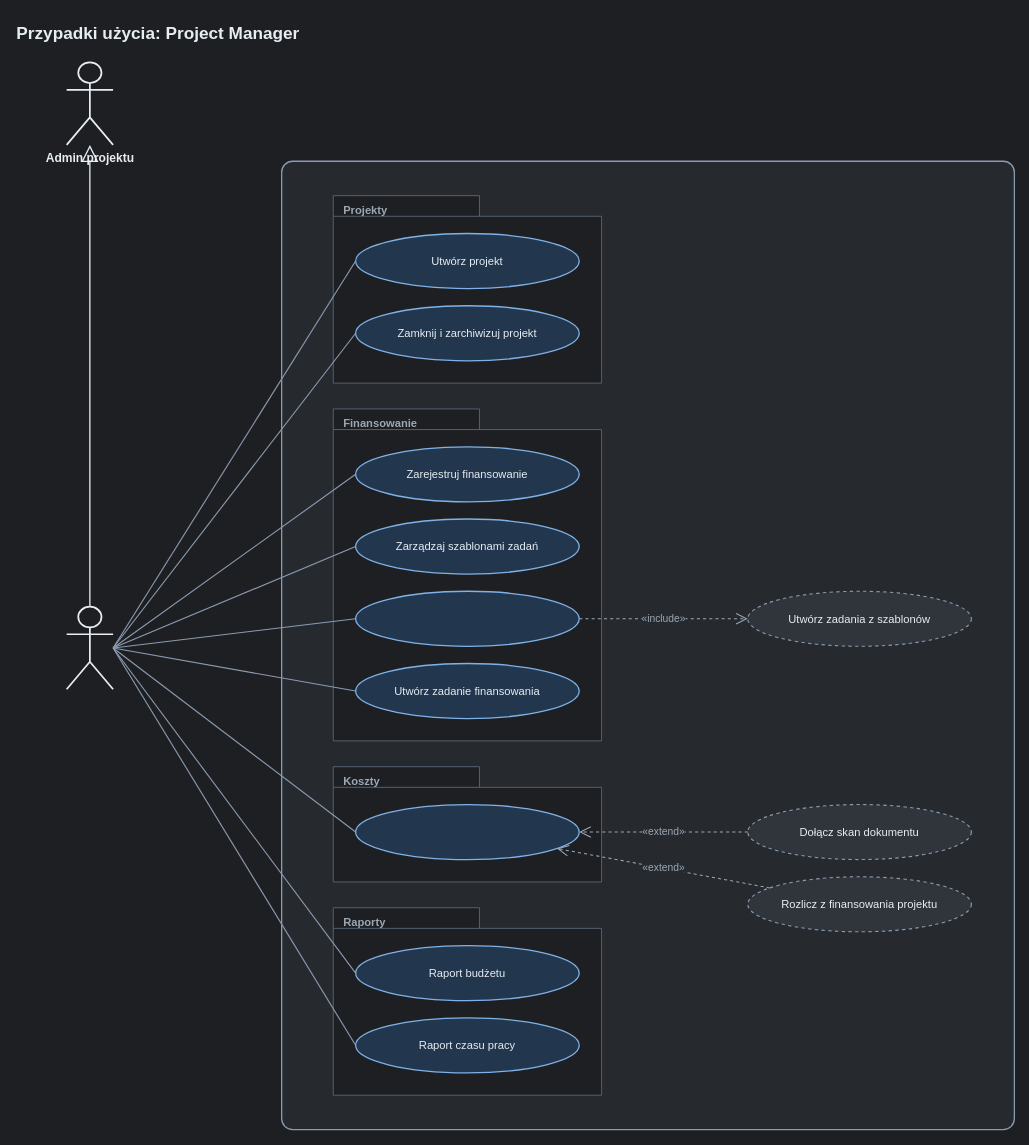
Image size: 1029x1145. Some labels were removed from this diagram. The shapes that lost their labels are listed below. From the top down, each one's centre as x and y in pixels, then its label:
At point 467,618: "Podepnij finansowanie do projektu".
At point 89,647: "Project Manager".
At point 467,831: "Rejestruj wydatek".
